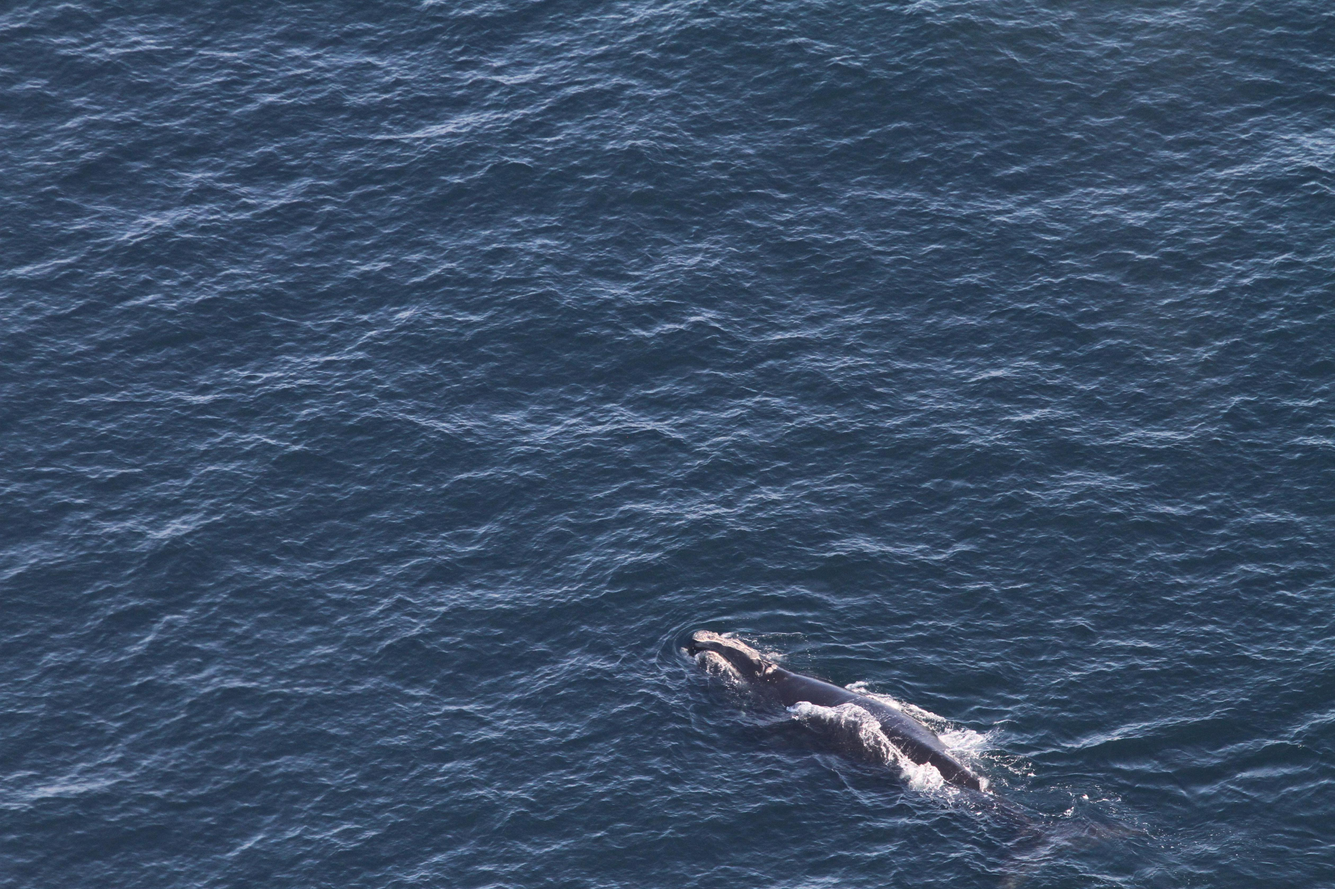whale: (685, 625, 1019, 812)
